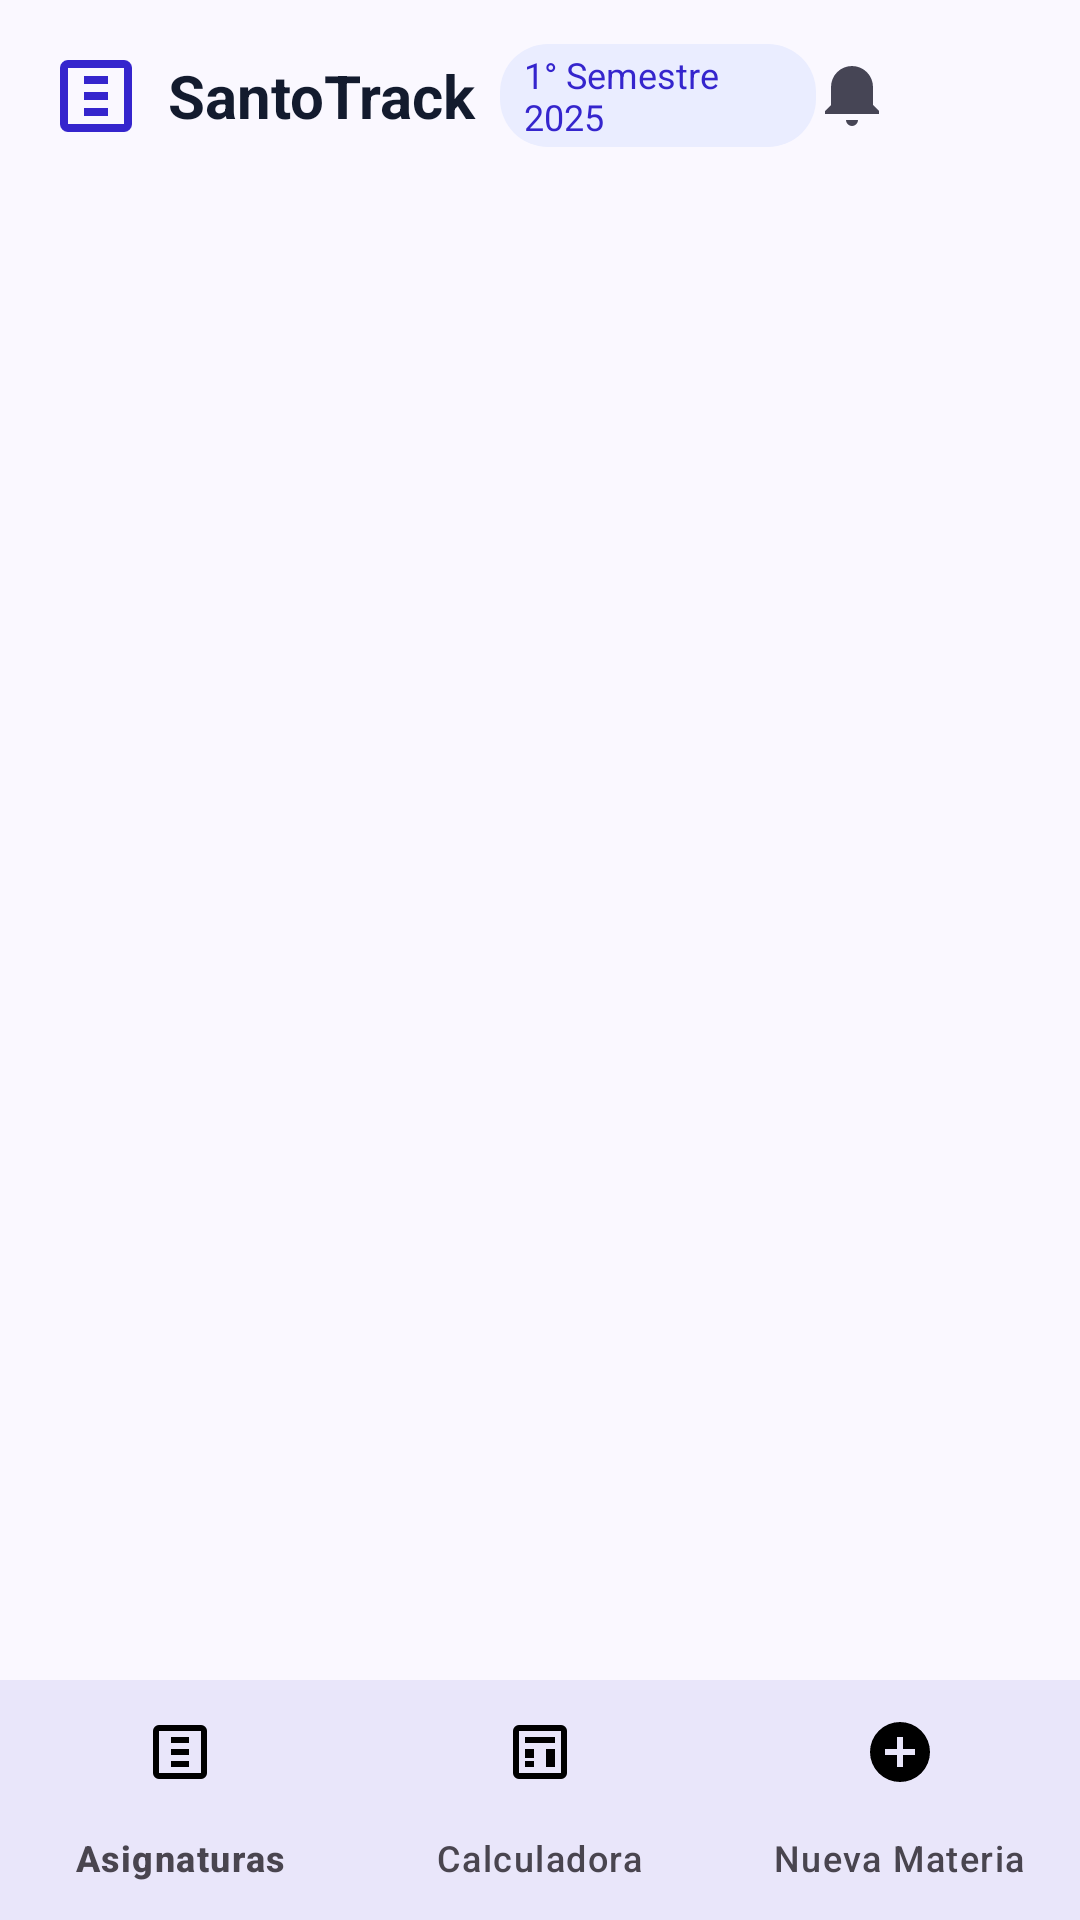

Where icons sit on this 1080 × 1920 app screen, as [x1, y1, x2, y2]:
notifications: [825, 66, 879, 126]
